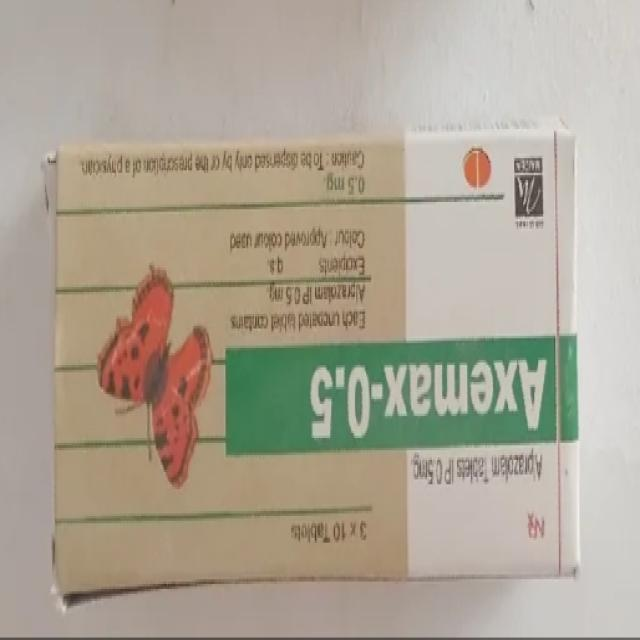drug-name: (304, 359, 547, 438)
